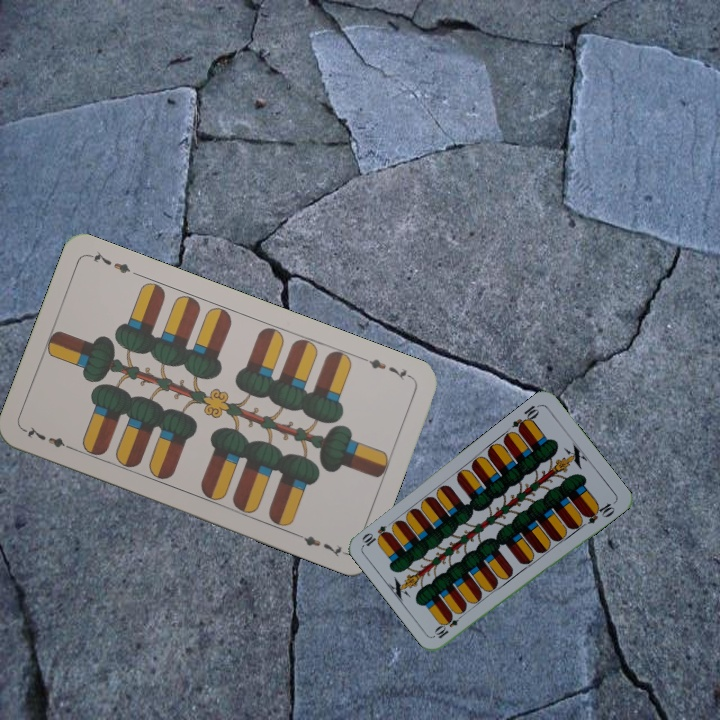E10: (508, 401, 543, 435), (431, 609, 467, 641)
E7: (20, 422, 77, 453), (358, 353, 415, 382)
